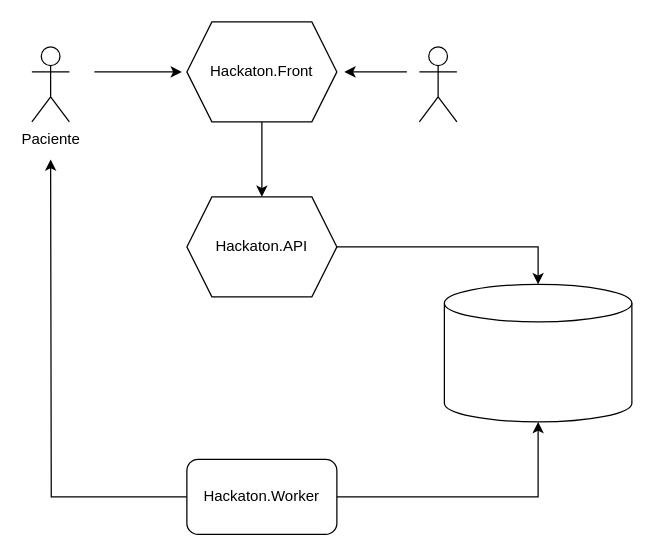
Some shapes in this 654 by 556 pixel diagram are drawn without their labels. The shapes that lost their labels are listed below. From the top down, each one's centre as x and y in pixels, then its label:
At (437,84): "Médico".
At (537,352): "Banco de dados Azure".
